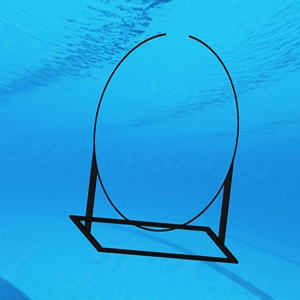circle: (70, 30, 242, 269)
